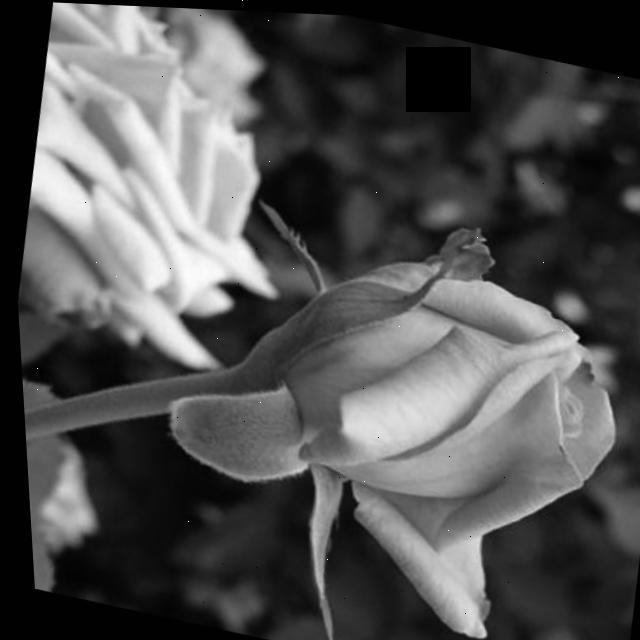rose: (122, 162, 640, 640)
